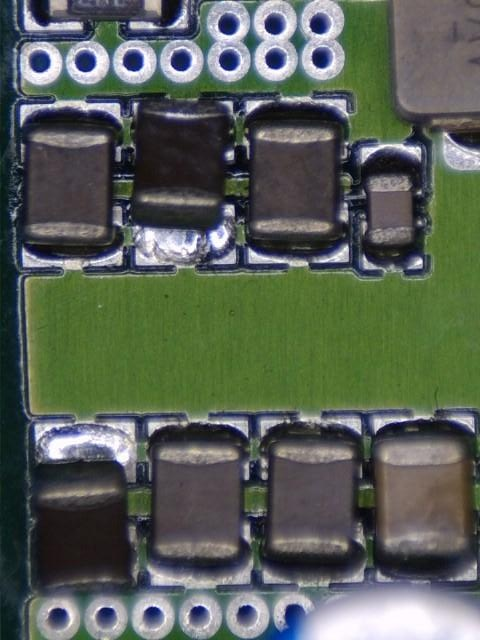pcb_defect: (31, 418, 138, 596), (131, 99, 237, 267)
